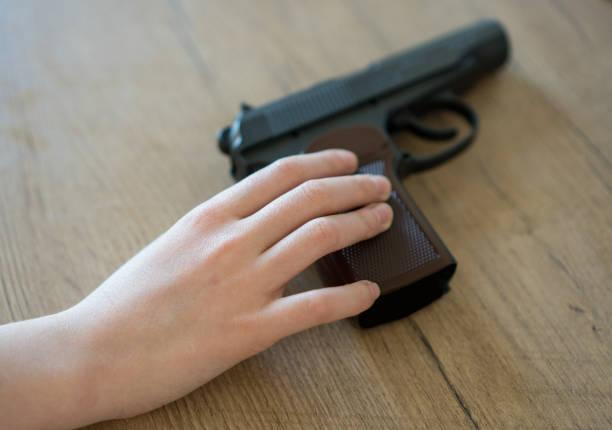weapon: (211, 16, 518, 333)
